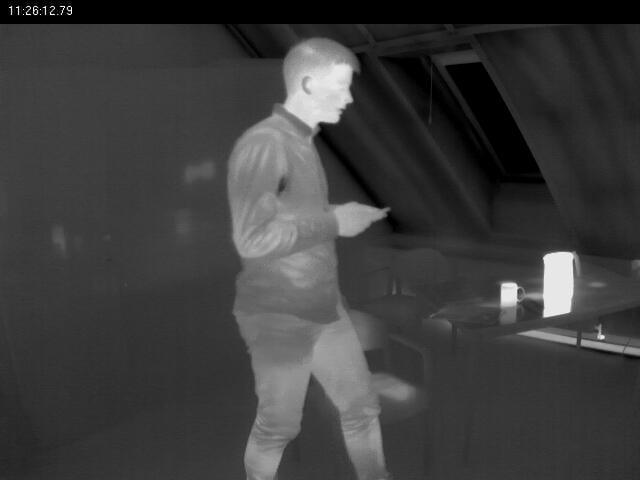person: (222, 33, 436, 476)
